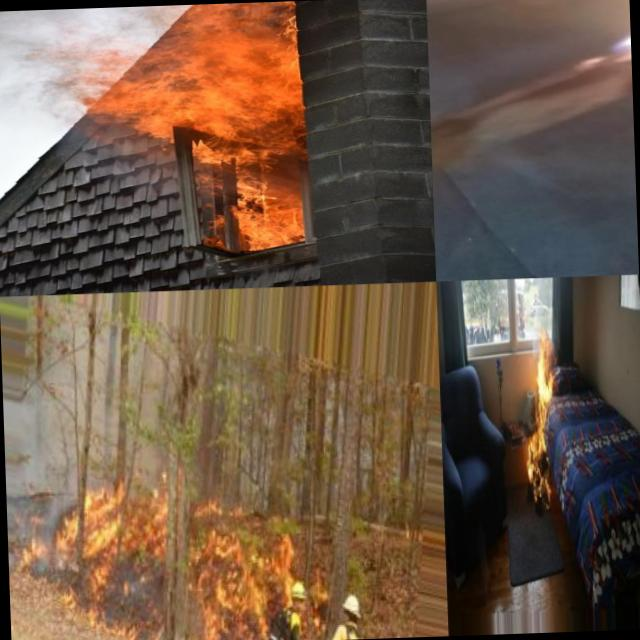fire: (97, 38, 302, 141), (183, 134, 310, 248), (68, 473, 166, 605), (186, 524, 294, 634), (574, 0, 633, 117), (522, 334, 556, 502), (178, 0, 299, 40)
smoke: (0, 43, 95, 124), (0, 5, 175, 47)
